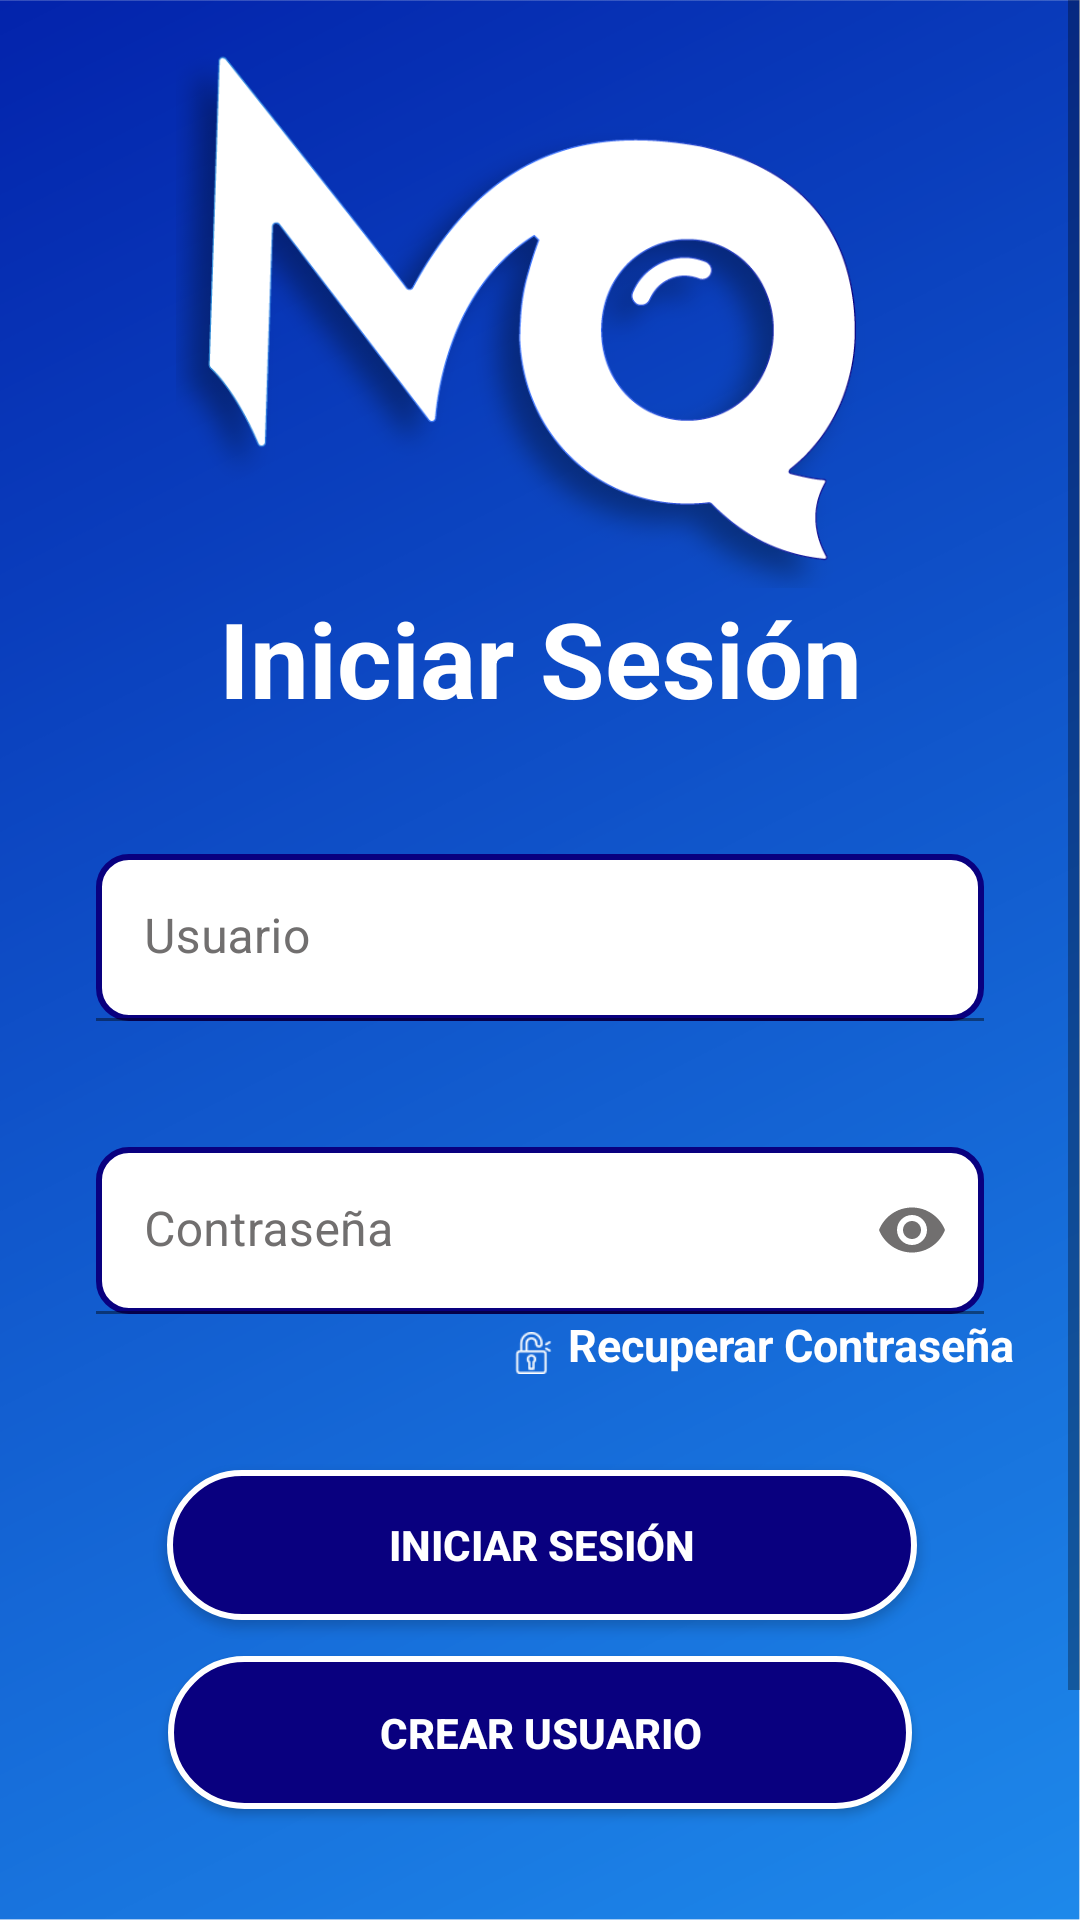

Named icons in this screenshot (1080×1920) and their centers, [x,y]:
candado: [533,1353]
